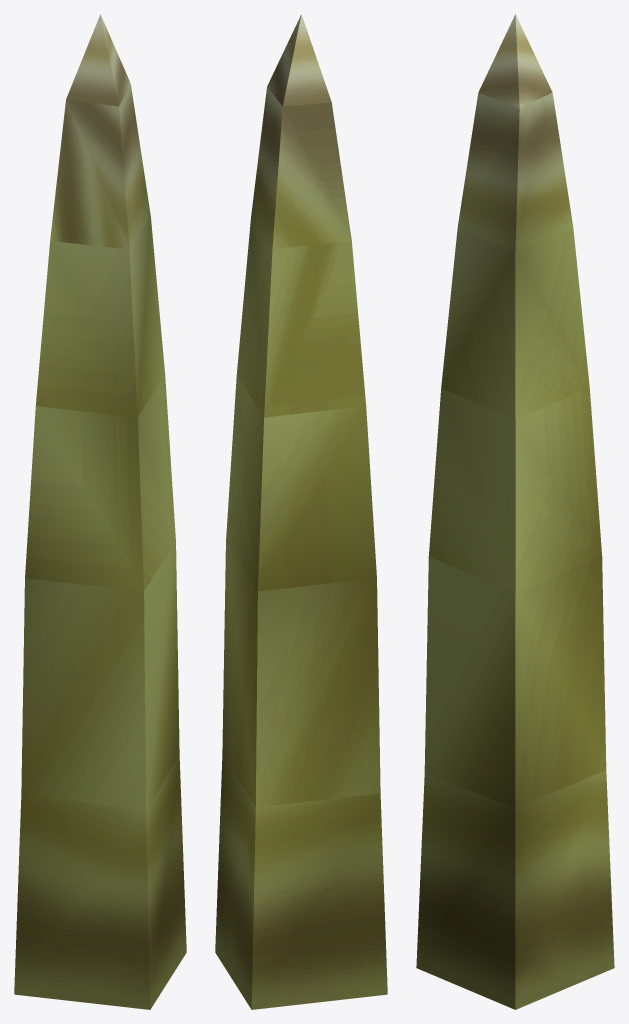
Rendered from darkvine-lod1.glb.
3 renders of one model, left to right at view 1: azimuth 30°, elevation 25°; view 2: azimuth 150°, elevation 25°; view 3: azimuth 270°, elevation 25°, orthographic.
Visible parts, largest first — view 1: darkvine-lod1; view 2: darkvine-lod1; view 3: darkvine-lod1.
Boxes of the visible parts, box(x1,y1,x2,y2) form: darkvine-lod1: box(14, 14, 186, 1009); darkvine-lod1: box(215, 14, 387, 1009); darkvine-lod1: box(416, 14, 614, 1009).
Size of the model in its own units: 0.9375 by 4.98 by 0.9375.
1 material, 1 textured.
